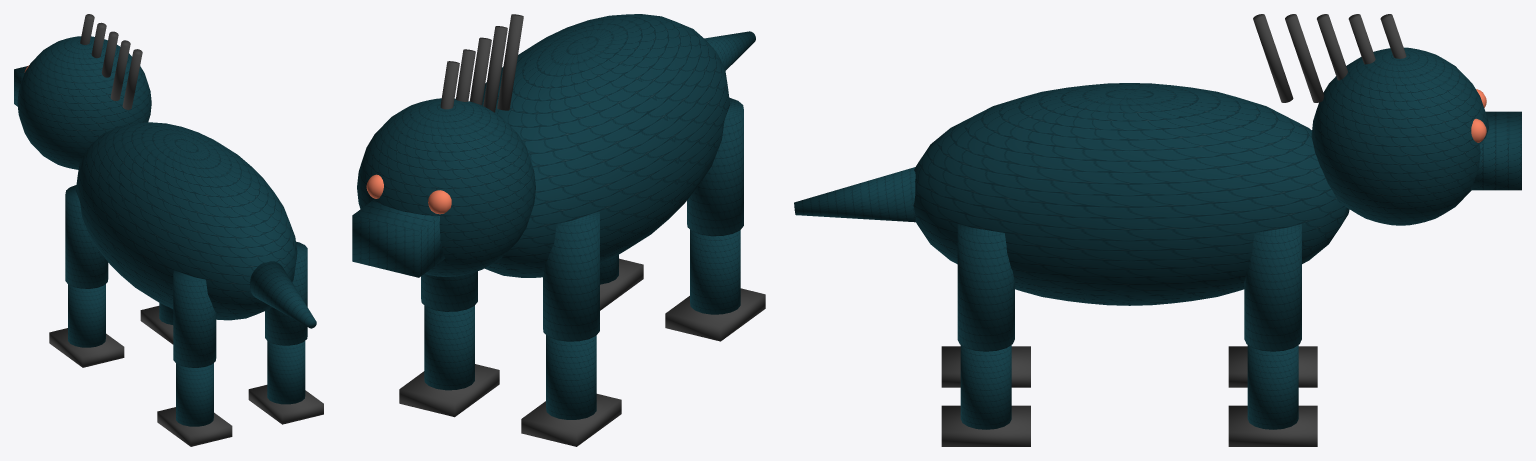
The model's file is afanc.glb.
The picture shows the model from 3 angles, left to right: view 1: azimuth 30°, elevation 25°; view 2: azimuth 150°, elevation 25°; view 3: azimuth 270°, elevation 25°; orthographic projection. The views are drawn at different scales.
Parts seen in each view (by area): view 1: Body, Head, LegUpper, LegUpper.001, LegLower.002, LegLower.001, LegLower, Tail, LegUpper.002, WebFoot, WebFoot.002, WebFoot.001 (+5 smaller); view 2: Body, Head, LegUpper.001, Snout, LegUpper, LegLower.001, LegLower, LegLower.003, WebFoot, WebFoot.001, WebFoot.003, LegUpper.003 (+9 smaller); view 3: Body, Head, LegUpper.002, LegUpper.003, Tail, LegLower.003, LegLower.002, Snout, WebFoot.002, WebFoot.003, WebFoot, WebFoot.001 (+3 smaller).
Boxes of the visible parts, bbox=[...] form: Body: bbox=[76, 122, 297, 320]; Head: bbox=[17, 36, 151, 169]; LegUpper: bbox=[173, 270, 216, 367]; LegUpper.001: bbox=[65, 185, 108, 288]; LegLower.002: bbox=[267, 341, 305, 404]; LegLower.001: bbox=[68, 284, 105, 347]; LegLower: bbox=[176, 363, 213, 426]; Tail: bbox=[250, 261, 316, 328]; LegUpper.002: bbox=[265, 241, 307, 345]; WebFoot: bbox=[157, 407, 232, 446]; WebFoot.002: bbox=[248, 385, 323, 424]; WebFoot.001: bbox=[49, 328, 124, 367]; Body: bbox=[482, 14, 730, 277]; Head: bbox=[357, 98, 535, 276]; LegUpper.001: bbox=[543, 211, 599, 341]; Snout: bbox=[352, 200, 445, 277]; LegUpper: bbox=[687, 97, 743, 236]; LegLower.001: bbox=[546, 335, 596, 419]; LegLower: bbox=[690, 230, 740, 314]; LegLower.003: bbox=[424, 305, 474, 390]; WebFoot: bbox=[665, 288, 765, 341]; WebFoot.001: bbox=[521, 394, 621, 446]; WebFoot.003: bbox=[399, 364, 499, 417]; LegUpper.003: bbox=[421, 271, 477, 311]; Body: bbox=[913, 83, 1349, 305]; Head: bbox=[1311, 47, 1488, 225]; LegUpper.002: bbox=[957, 224, 1014, 351]; LegUpper.003: bbox=[1244, 224, 1301, 351]; Tail: bbox=[794, 167, 915, 222]; LegLower.003: bbox=[1247, 345, 1298, 429]; LegLower.002: bbox=[960, 345, 1011, 429]; Snout: bbox=[1469, 111, 1521, 190]; WebFoot.002: bbox=[941, 405, 1030, 446]; WebFoot.003: bbox=[1228, 405, 1317, 446]; WebFoot: bbox=[941, 346, 1030, 387]; WebFoot.001: bbox=[1228, 346, 1317, 387].
Bounding box in the file's own units: 0.5208 × 1 × 1.7.
3 materials, 1 textured.
